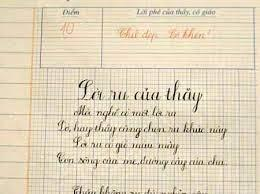text: (76, 76, 204, 114), (56, 117, 229, 141), (56, 151, 227, 172), (72, 135, 181, 157), (112, 22, 214, 43), (73, 103, 177, 119), (70, 183, 208, 194), (134, 6, 218, 18), (58, 20, 77, 41), (60, 7, 82, 17)
